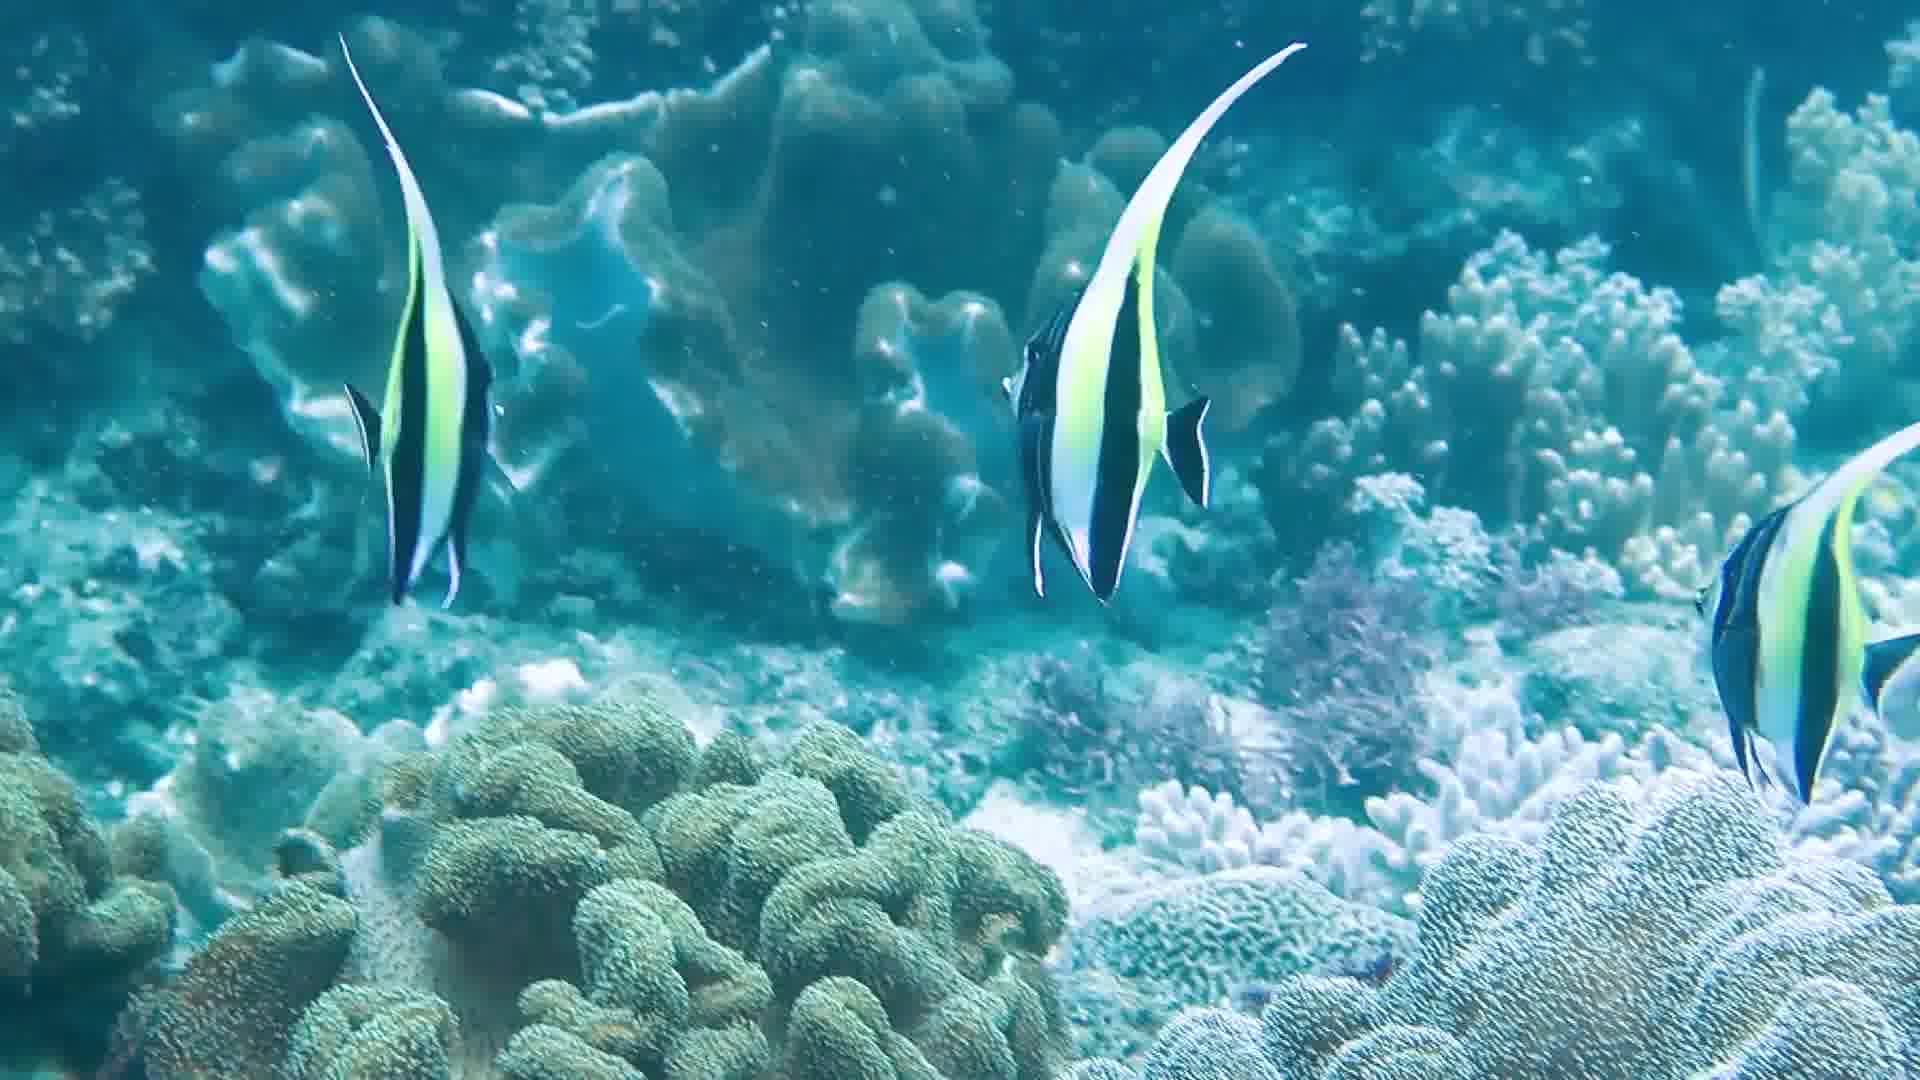Zanclus cornutus: (952, 196, 1207, 621), (326, 177, 526, 585), (1662, 452, 1892, 803)
